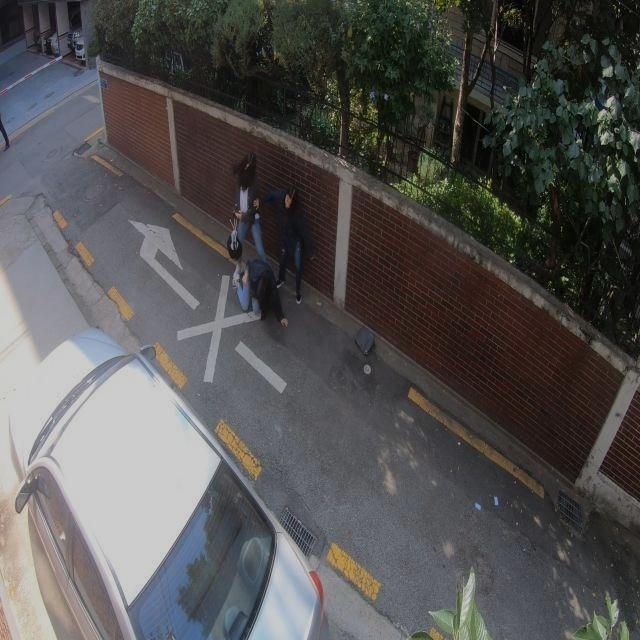fight: (223, 168, 317, 326)
